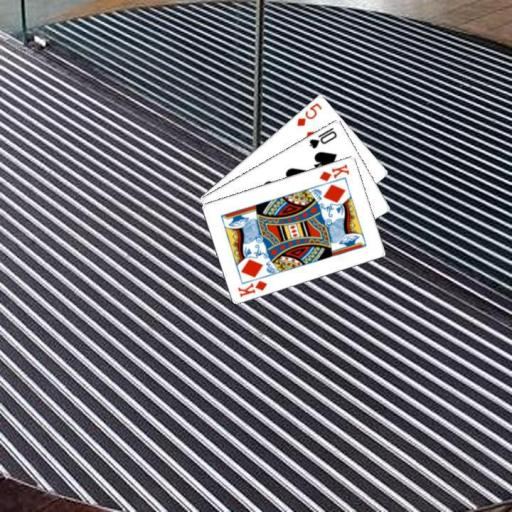10S: (306, 124, 338, 150)
5D: (294, 100, 324, 127)
KD: (316, 161, 351, 183), (235, 277, 269, 299)
